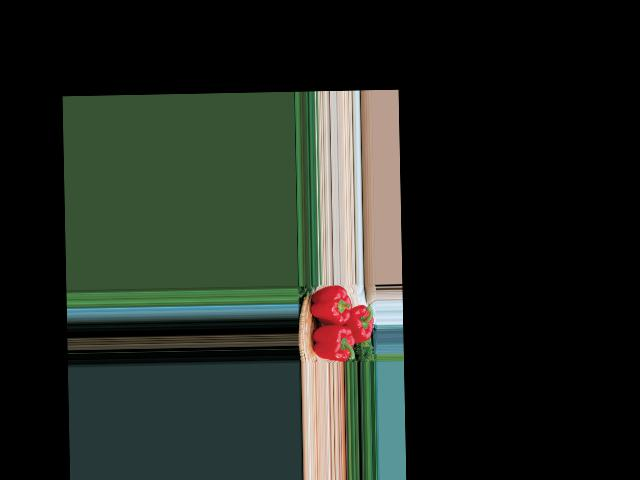bell_pepper: (307, 319, 355, 361)
